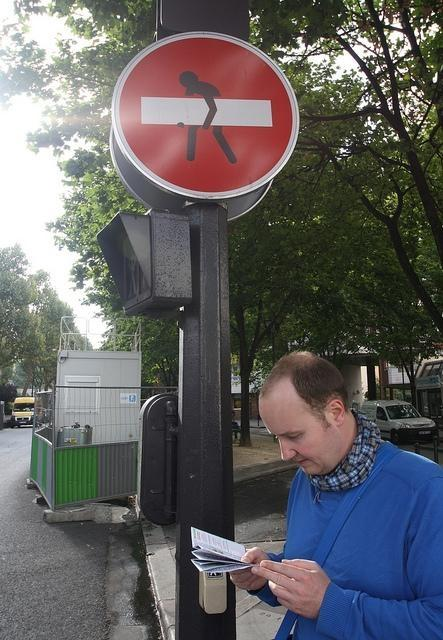bus: (9, 396, 34, 430)
car: (361, 399, 438, 445)
